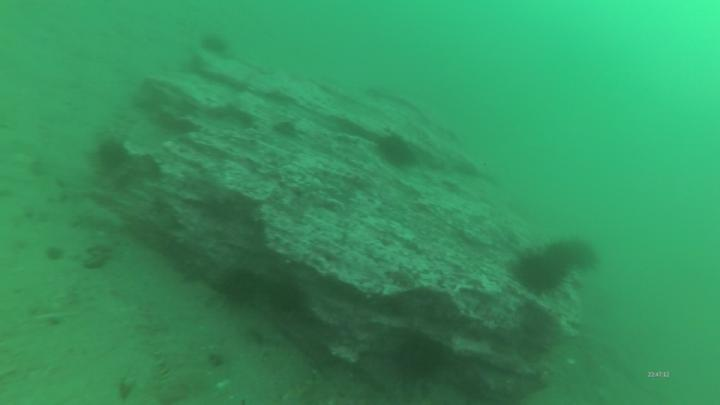echinus: (514, 248, 567, 298), (397, 335, 443, 382), (373, 130, 418, 174), (220, 265, 259, 311), (543, 238, 582, 281), (564, 234, 600, 274), (519, 304, 555, 343), (95, 137, 129, 176), (267, 277, 303, 312), (200, 30, 231, 56)
